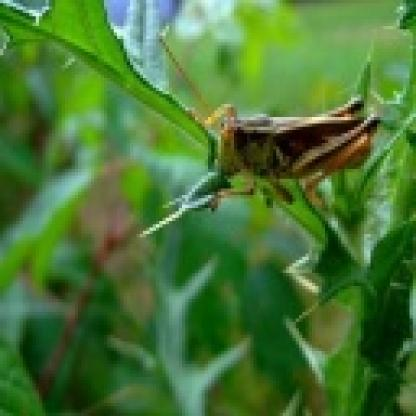grasshopper: (203, 92, 379, 207)
